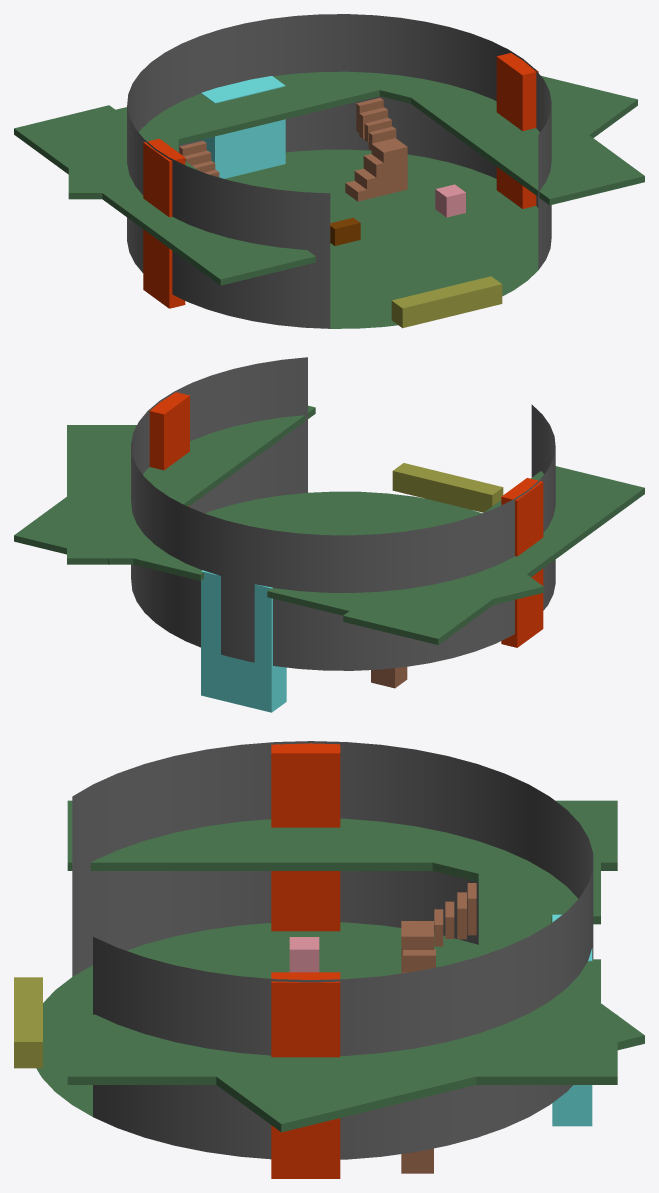
The model's file is SM_RoomTemplate.fbx.
The picture shows the model from 3 angles, top to bottom: view 1: azimuth 30°, elevation 25°; view 2: azimuth 150°, elevation 25°; view 3: azimuth 270°, elevation 25°; orthographic projection. The views are drawn at different scales.
Parts seen in each view (by area): view 1: Room; view 2: Room; view 3: Room.
Part boxes in pixels (x1=…): Room: x1=14, y1=14, x2=644, y2=328; Room: x1=14, y1=357, x2=644, y2=712; Room: x1=14, y1=741, x2=644, y2=1178.
Bounding box in the file's own units: 2977 × 1007 × 2336.
